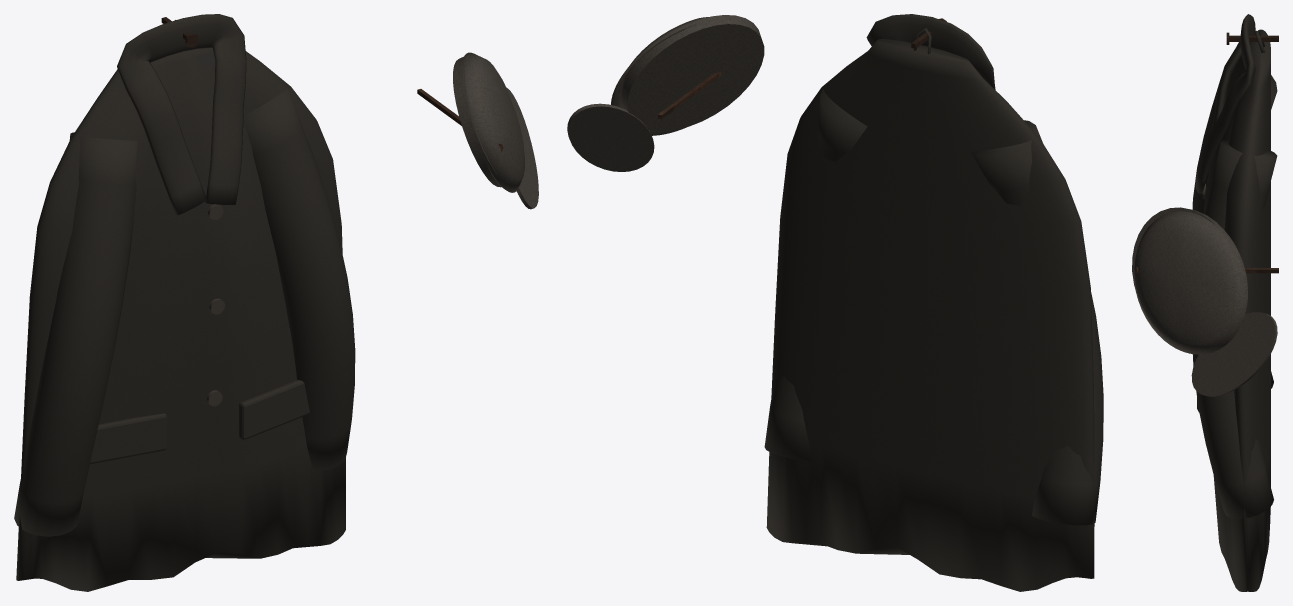
File: jacket-and-cap-on-nail.glb
The picture shows the model from 3 angles, left to right: view 1: azimuth 30°, elevation 25°; view 2: azimuth 150°, elevation 25°; view 3: azimuth 270°, elevation 25°; orthographic projection. The views are drawn at different scales.
Visible parts, largest first — view 1: jacket, cap; view 2: jacket, cap; view 3: jacket, cap, jacket-nail, cap-nail.
Boxes of the visible parts, left/top/right/bottom form: jacket: left=14, top=14, right=355, bottom=591; cap: left=453, top=52, right=538, bottom=209; jacket: left=764, top=14, right=1103, bottom=591; cap: left=567, top=15, right=764, bottom=171; jacket: left=1192, top=14, right=1277, bottom=591; cap: left=1132, top=207, right=1277, bottom=396; jacket-nail: left=1226, top=32, right=1278, bottom=44; cap-nail: left=1136, top=266, right=1278, bottom=275.
Size of the model in its own units: 0.8132 by 0.8342 by 0.2217.
Materials: 5 (3 with a texture image).
